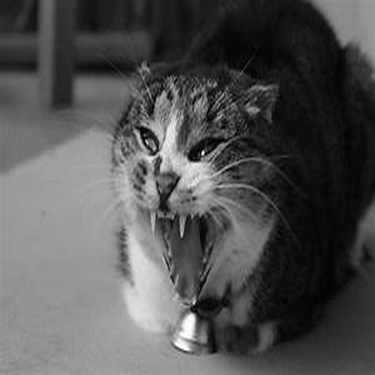cat: (107, 4, 373, 360)
